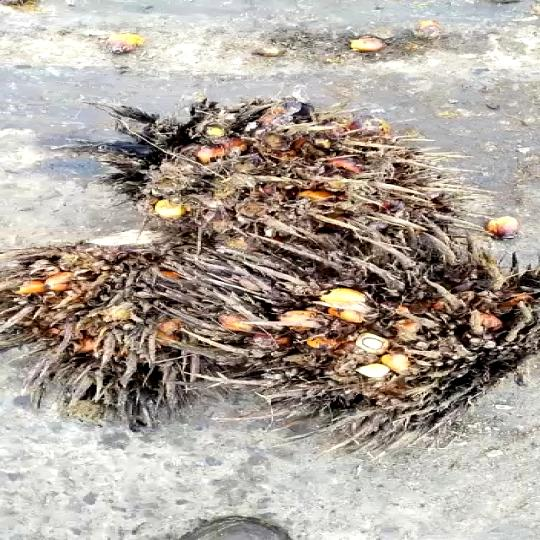terlalu masak: (226, 238, 540, 441), (109, 114, 432, 270), (0, 239, 299, 392)
